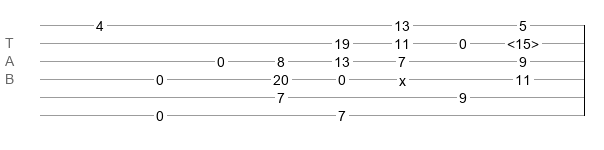0: (156, 72, 164, 82), (156, 108, 164, 118), (217, 54, 225, 64), (338, 72, 346, 82), (459, 36, 467, 46)
11: (394, 36, 410, 46), (515, 72, 531, 82)
13: (334, 54, 350, 64), (394, 18, 410, 28)
19: (334, 36, 350, 46)
20: (273, 72, 289, 82)
4: (96, 18, 104, 28)
5: (519, 18, 527, 28)
7: (277, 90, 285, 100), (338, 108, 346, 118), (398, 54, 406, 64)
8: (277, 54, 285, 64)
9: (459, 90, 467, 100), (519, 54, 527, 64)
harmonic: (507, 36, 539, 46)
x: (399, 73, 406, 81)
